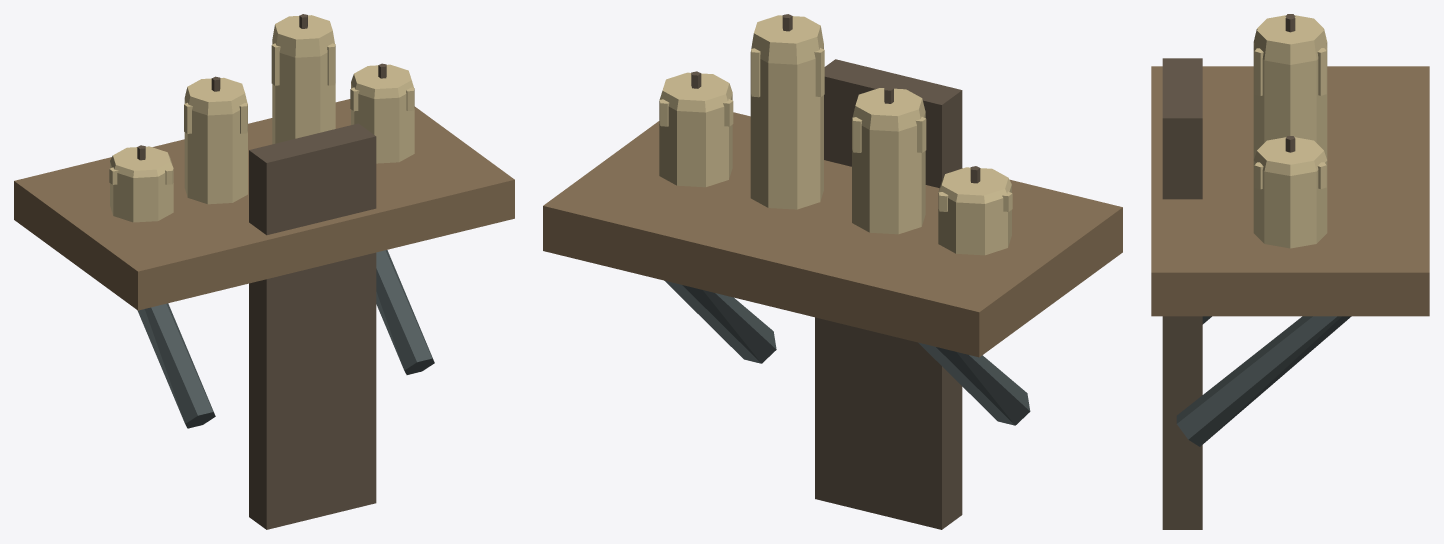
The model's file is DG_Shelf_CandleSconce.fbx.
3 renders of one model, left to right at view 1: azimuth 30°, elevation 25°; view 2: azimuth 150°, elevation 25°; view 3: azimuth 270°, elevation 25°, orthographic. The views are drawn at different scales.
Visible parts, largest first — view 1: DG_Shelf_CandleSconce; view 2: DG_Shelf_CandleSconce; view 3: DG_Shelf_CandleSconce.
Part boxes in pixels (box(x1,y1,x2,y2)): DG_Shelf_CandleSconce: box(14, 14, 514, 529); DG_Shelf_CandleSconce: box(543, 14, 1122, 529); DG_Shelf_CandleSconce: box(1151, 14, 1429, 529).
Size of the model in its own units: 0.86 by 0.98 by 0.49.
